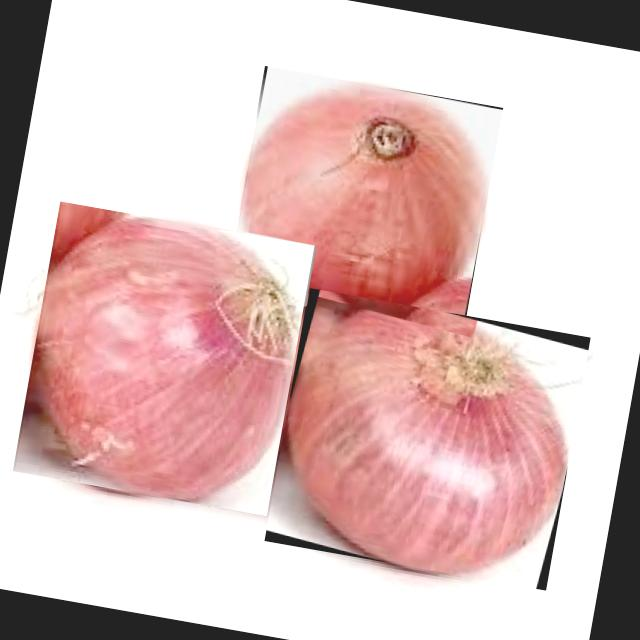healthy: (287, 304, 565, 572), (37, 217, 297, 500), (241, 85, 484, 319)
